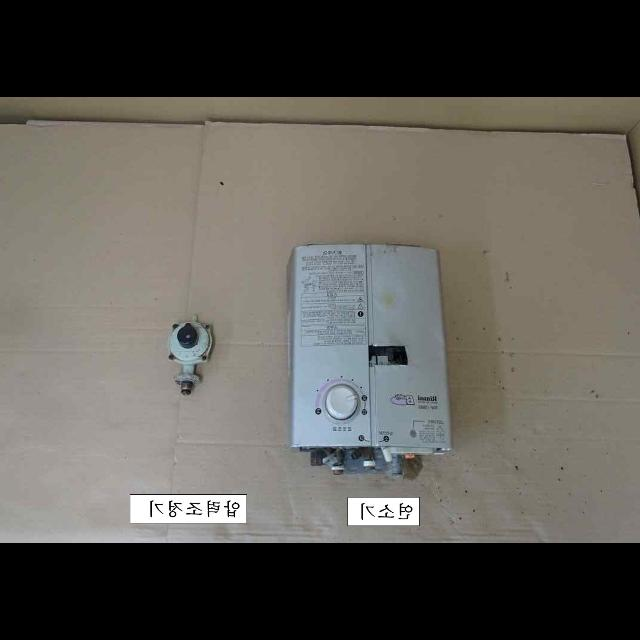Boiler: (278, 212, 472, 512)
